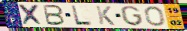B: (43, 4, 67, 26)
G: (120, 5, 145, 27)
K: (95, 5, 117, 27)
L: (70, 5, 94, 26)
O: (144, 5, 167, 27)
X: (17, 4, 45, 26)
